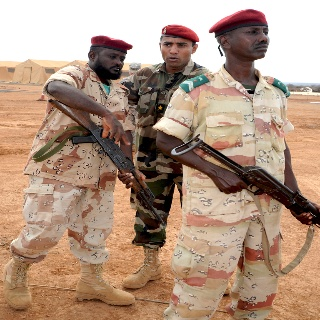rifle: (50, 97, 167, 226), (171, 133, 320, 226)
